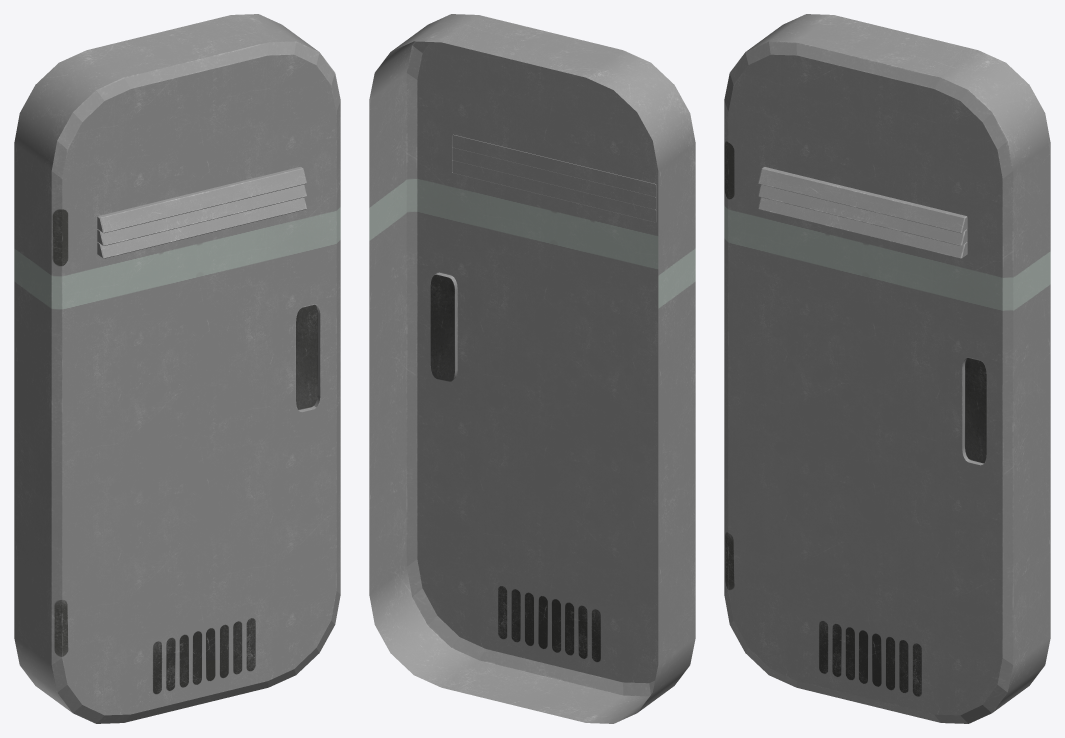
The model's file is Taquilla_V2.fbx.
3 renders of one model, left to right at view 1: azimuth 30°, elevation 25°; view 2: azimuth 150°, elevation 25°; view 3: azimuth 330°, elevation 25°, orthographic.
Parts seen in each view (by area): view 1: armario1, Regilla_casillero3; view 2: armario1, Regilla_casillero3; view 3: armario1, Regilla_casillero3.
Part boxes in pixels (x1,y1,x2,y2): armario1: (14, 14, 340, 723); Regilla_casillero3: (97, 167, 306, 258); armario1: (369, 14, 695, 723); Regilla_casillero3: (452, 134, 656, 222); armario1: (724, 14, 1050, 723); Regilla_casillero3: (758, 167, 967, 258).
Size of the model in its own units: 58.72 by 125 by 16.39.
1 material, 1 textured.
